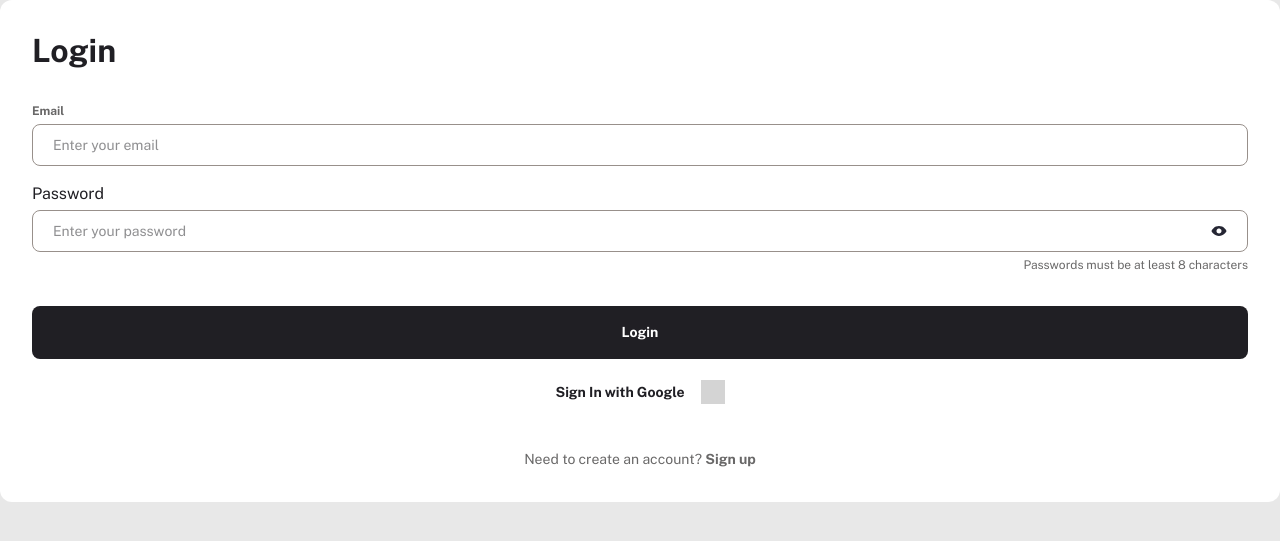
Test case: <SignInPage /> - functionality › invalid email shows schema error and a11y wiring on blur
Type "invalid-email" into the field labelled "Email" at coordinates (640, 145), box [53,137,1227,153]
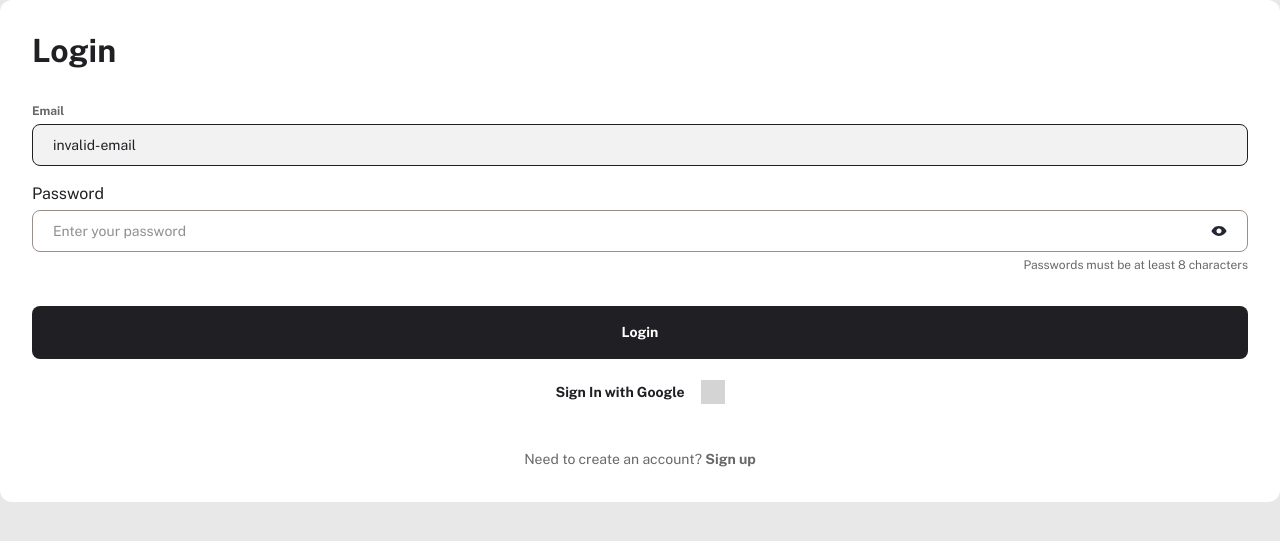
Press Tab
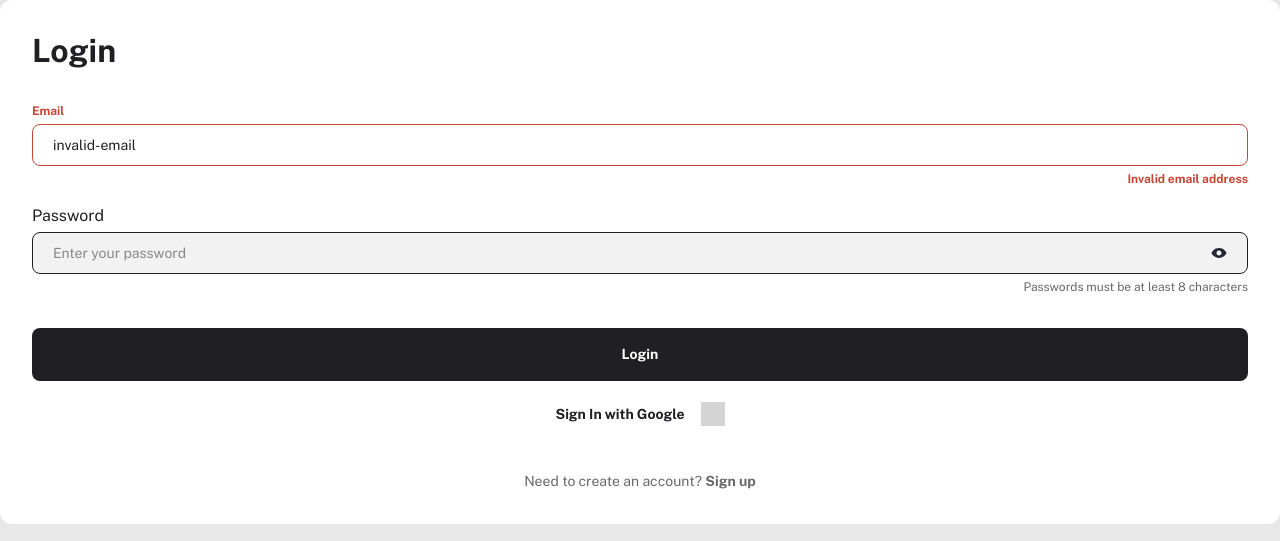
Result: the message reads "Invalid email address" at [1127,172,1248,186]
